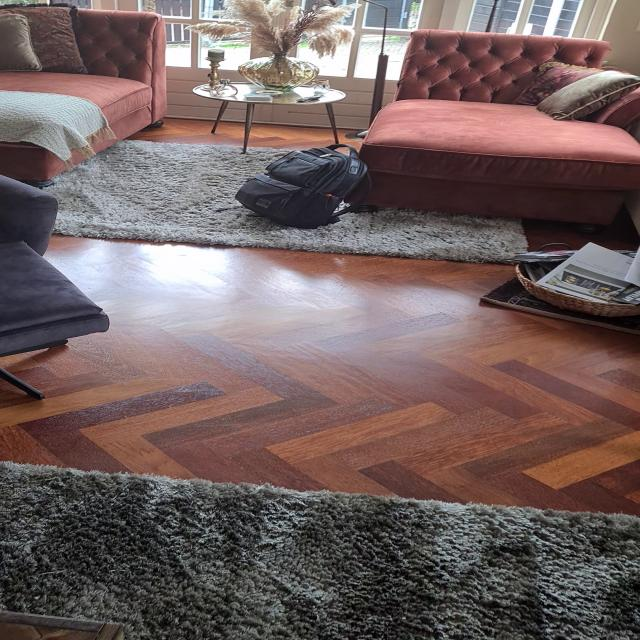backpack: (229, 141, 378, 231)
